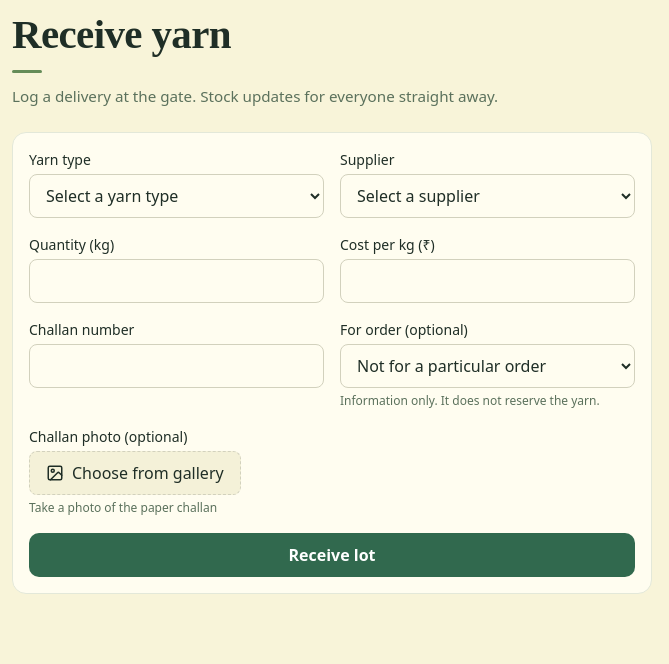
Test: ReceiveYarn › tells the clerk what is missing and sends nothing
The width and height of the screenshot is (669, 664).
Click the button "Receive lot".
click(332, 555)  # box 29,533 -> 635,577
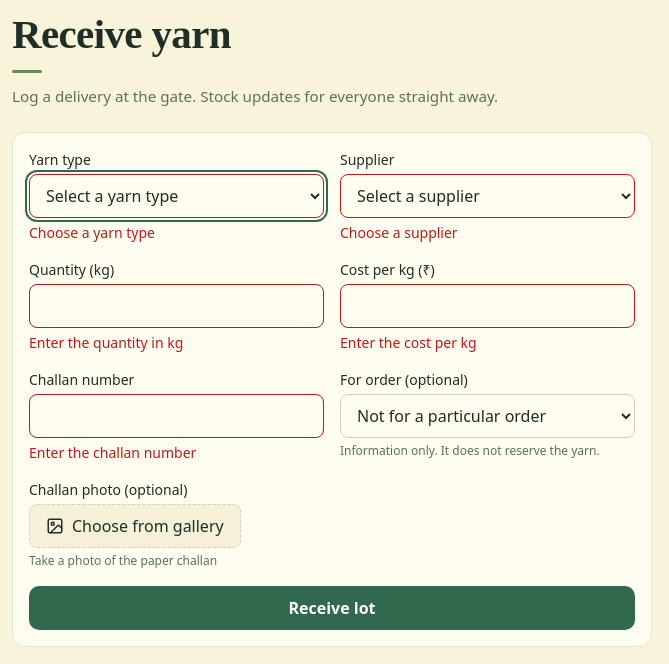
expect the text "Choose a yarn type" is shown: met, box 29,223 -> 155,242
expect the text "Choose a supplier" is shown: met, box 340,223 -> 458,242
expect the text "Enter the quantity in kg" is shown: met, box 29,333 -> 183,352
